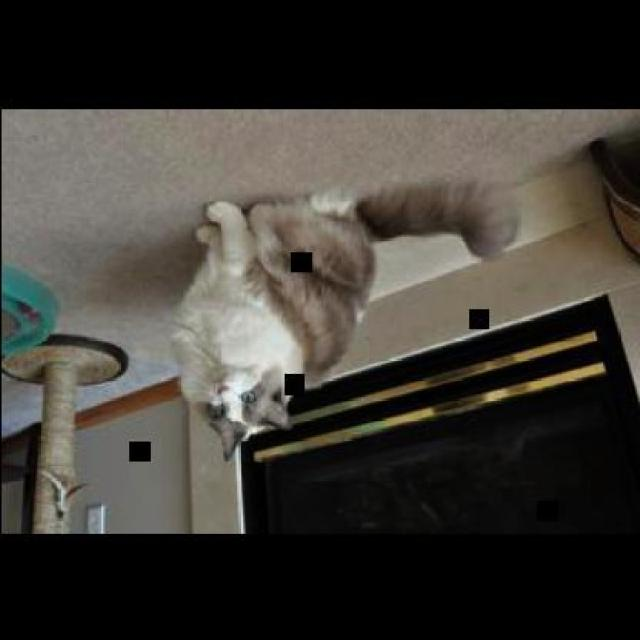unauthorized: (169, 175, 520, 460)
